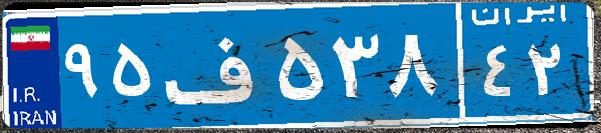2: (525, 38, 570, 115)
3: (330, 28, 385, 110)
4: (475, 38, 525, 113)
5: (273, 28, 330, 110), (110, 28, 158, 105)
8: (385, 28, 445, 110)
9: (57, 26, 110, 107)
ف: (158, 15, 273, 115)
